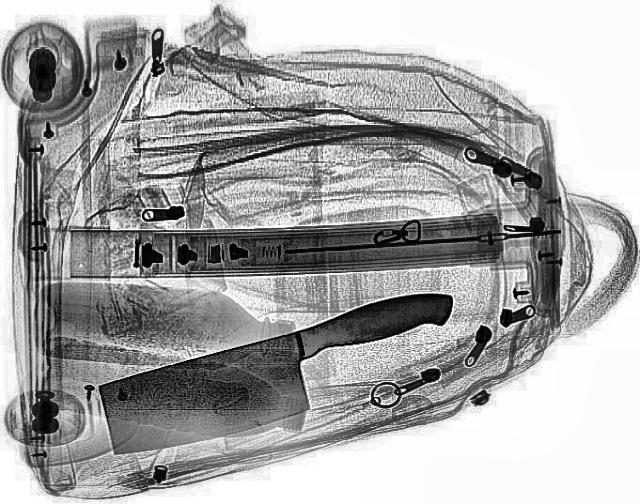Knife: (75, 274, 487, 472)
